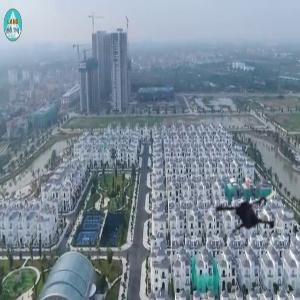drone: (210, 167, 296, 253)
